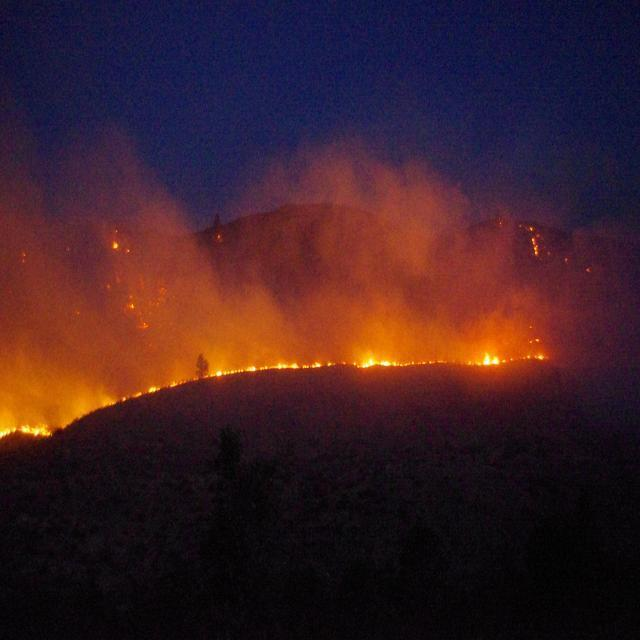Fire: (212, 346, 562, 382), (0, 411, 54, 444)
Smoke: (0, 175, 571, 338), (0, 340, 156, 398)
